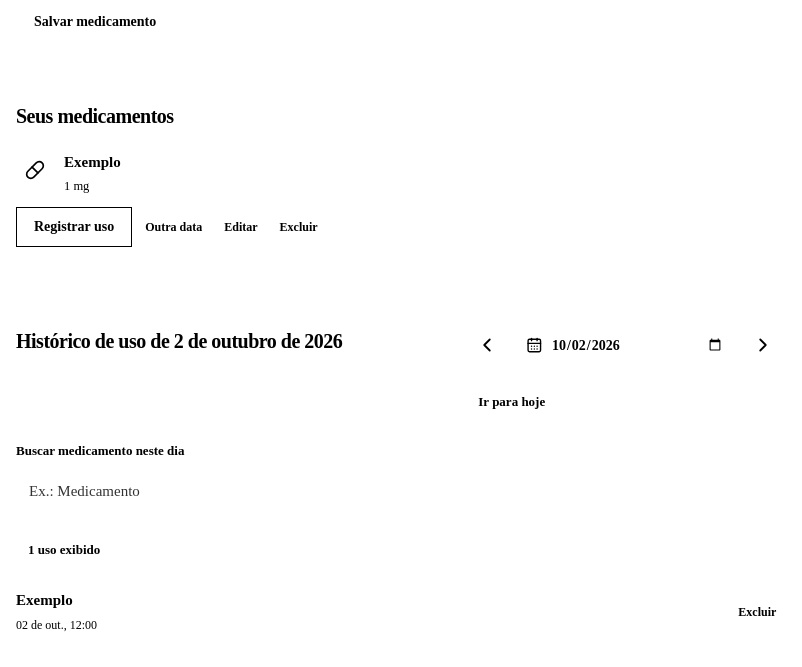
Scenario: limpeza experimental da busca vazia de medicamentos › limpa a busca, restaura os usos e foca o campo
(page scrolled)
Type "outro" into the search field labelled "Buscar medicamento neste dia" at (401, 492), box [16, 468, 785, 516]
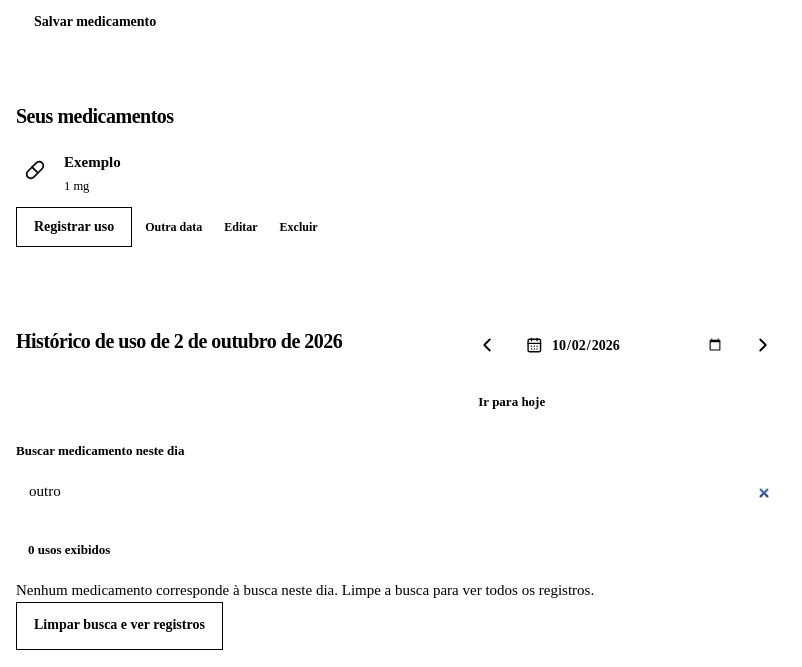
Click the button "Limpar busca e ver registros" at (119, 626), box [16, 602, 223, 650]
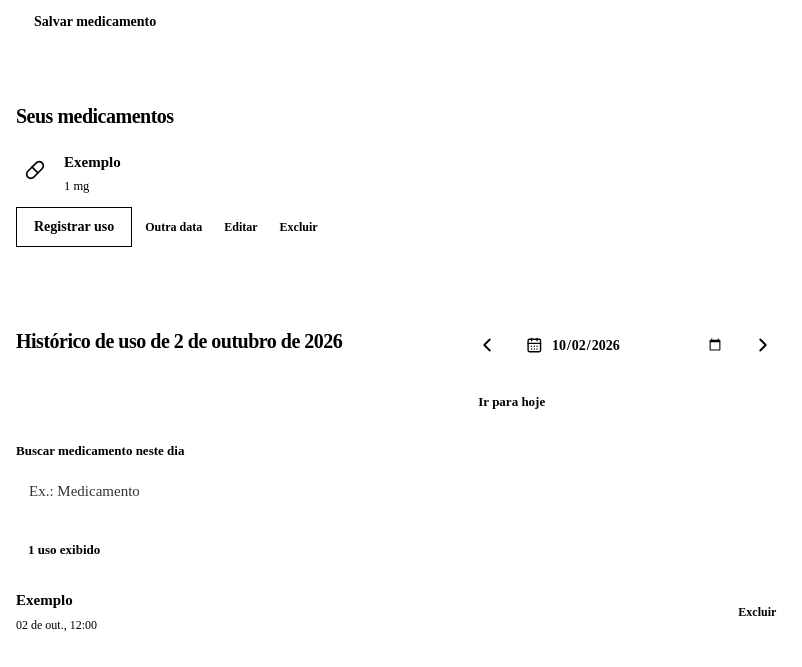
Result: the search field labelled "Buscar medicamento neste dia" is empty at [16, 468, 785, 516]
Result: the text "Exemplo" below "1 uso exibido" is shown at [16, 592, 73, 608]
